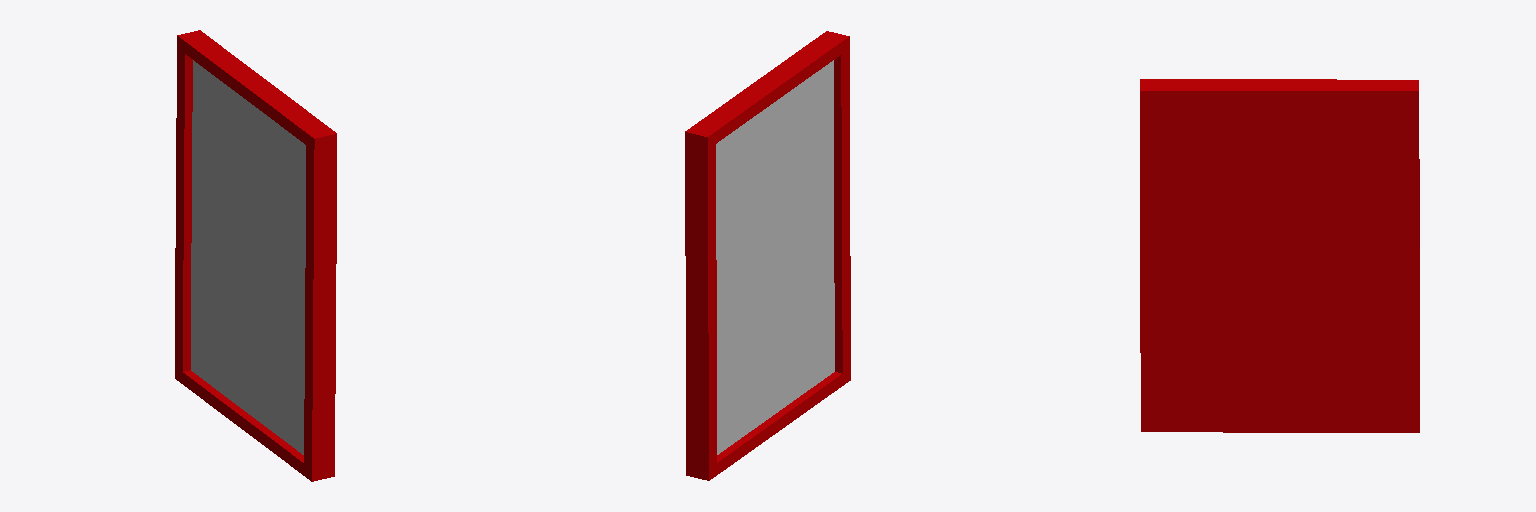
The model's file is quadro_04.obj.
3 views of the same model, side by side, from view 1: azimuth 30°, elevation 25°; view 2: azimuth 150°, elevation 25°; view 3: azimuth 270°, elevation 25° (orthographic).
Visible parts, largest first — view 1: Cube.010_Cube.015; view 2: Cube.010_Cube.015; view 3: Cube.010_Cube.015.
Part boxes in pixels (x1,y1,x2,y2): Cube.010_Cube.015: (175,30,336,481); Cube.010_Cube.015: (685,31,850,480); Cube.010_Cube.015: (1140,79,1419,432).
Size of the model in its own units: 0.1654 by 2 by 1.48.